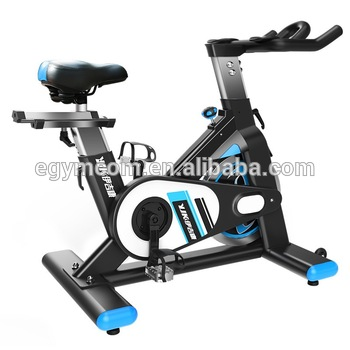gym_bike: (21, 13, 344, 337)
